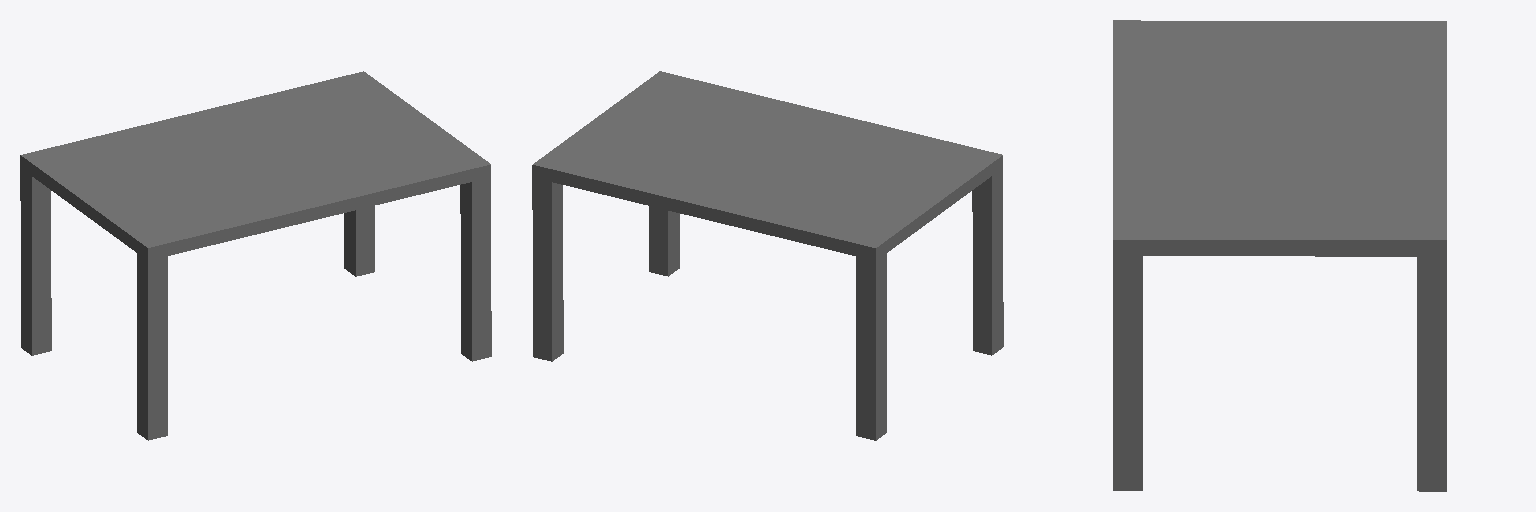
The robot description file, URDF, robot "none":
<robot name="none">
       <link name="none">
           <visual>
               <origin rpy="1.57 0 0" xyz="0 0 -0.325" />
               <geometry>
                   <mesh filename="table4.obj" />
               </geometry>
               <material name="brown">
                 <color rgba="0.5 0.5 0.5 1"/>
               </material>
           </visual>
          <collision>
              <geometry>
                  <box size="1.000000 0.535714 0.4" />
              </geometry>
          </collision>

          <inertial>
            <mass value="1.0" />
            <inertia ixx="0.0" ixy="0.0" ixz="0.0" iyy="0.0" iyz="0.0" izz="0.0" />
          </inertial>
      </link>
  </robot>

--- Facts derived from the render (not from the file) ---
Views: 3 orthographic renders of the robot side by side, from view 1: azimuth 30°, elevation 25°; view 2: azimuth 150°, elevation 25°; view 3: azimuth 270°, elevation 25°.
Model none with 1 links and 0 joints (none), rooted at none, posed all joints at 0.
Links seen in each view (by area): view 1: none; view 2: none; view 3: none.
Link boxes in pixels (left/top/right/bottom): none: left=20, top=71, right=491, bottom=440; none: left=532, top=71, right=1003, bottom=440; none: left=1113, top=20, right=1446, bottom=491.
Size in the robot's own frame: 1 by 0.6433 by 0.5362 metres.
Meshes: 1 distinct files referenced, 1 mesh visuals loaded (1 OBJ).